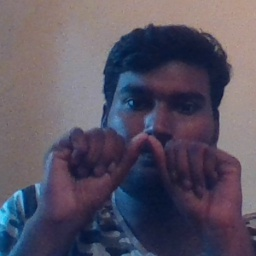A: (73, 121, 219, 222)
